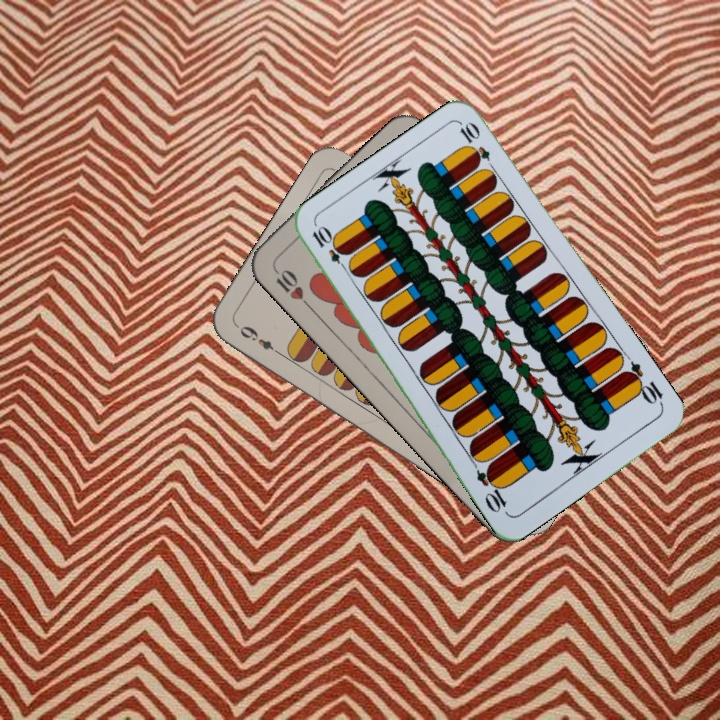E10: (619, 357, 666, 409), (308, 222, 353, 275)
E9: (235, 321, 285, 359)
H10: (268, 262, 313, 310)
